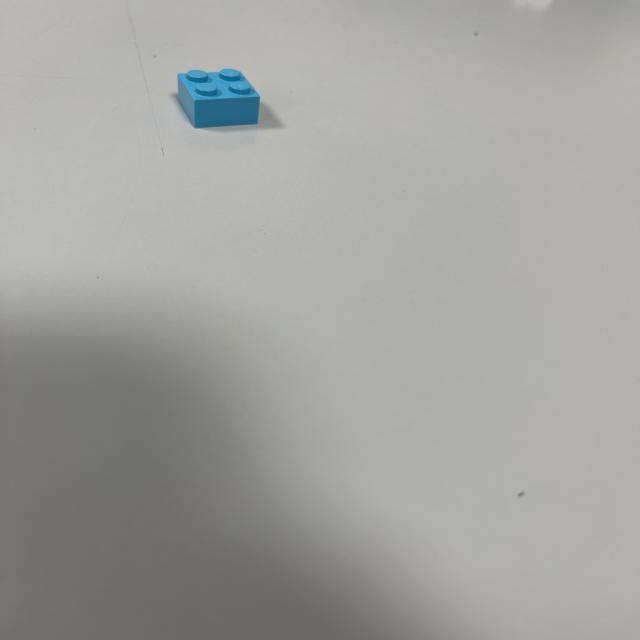C2x1x1: (175, 67, 261, 129)
